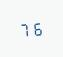seven: (19, 20, 30, 37)
six: (31, 20, 42, 36)
